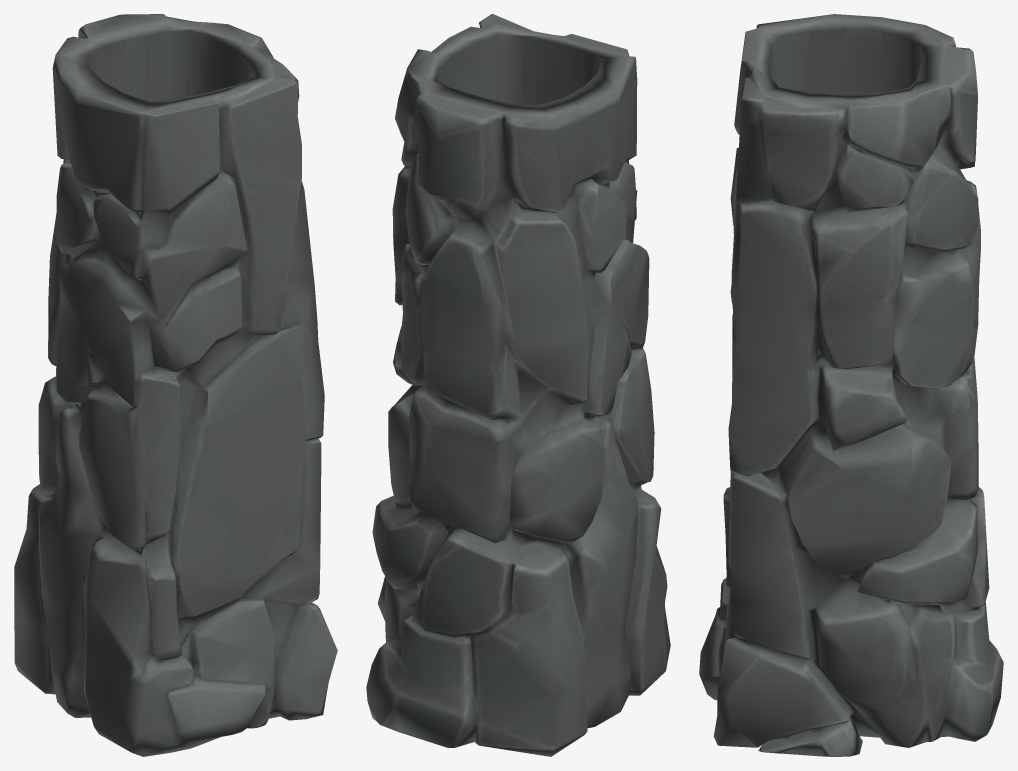
Rendered from rock_face.glb.
3 views of the same model, side by side, from view 1: azimuth 30°, elevation 25°; view 2: azimuth 150°, elevation 25°; view 3: azimuth 270°, elevation 25° (orthographic). The views are drawn at different scales.
Bounding box in the file's own units: 0.3638 × 0.9541 × 0.4116.
Materials: 1 (1 with a texture image).
